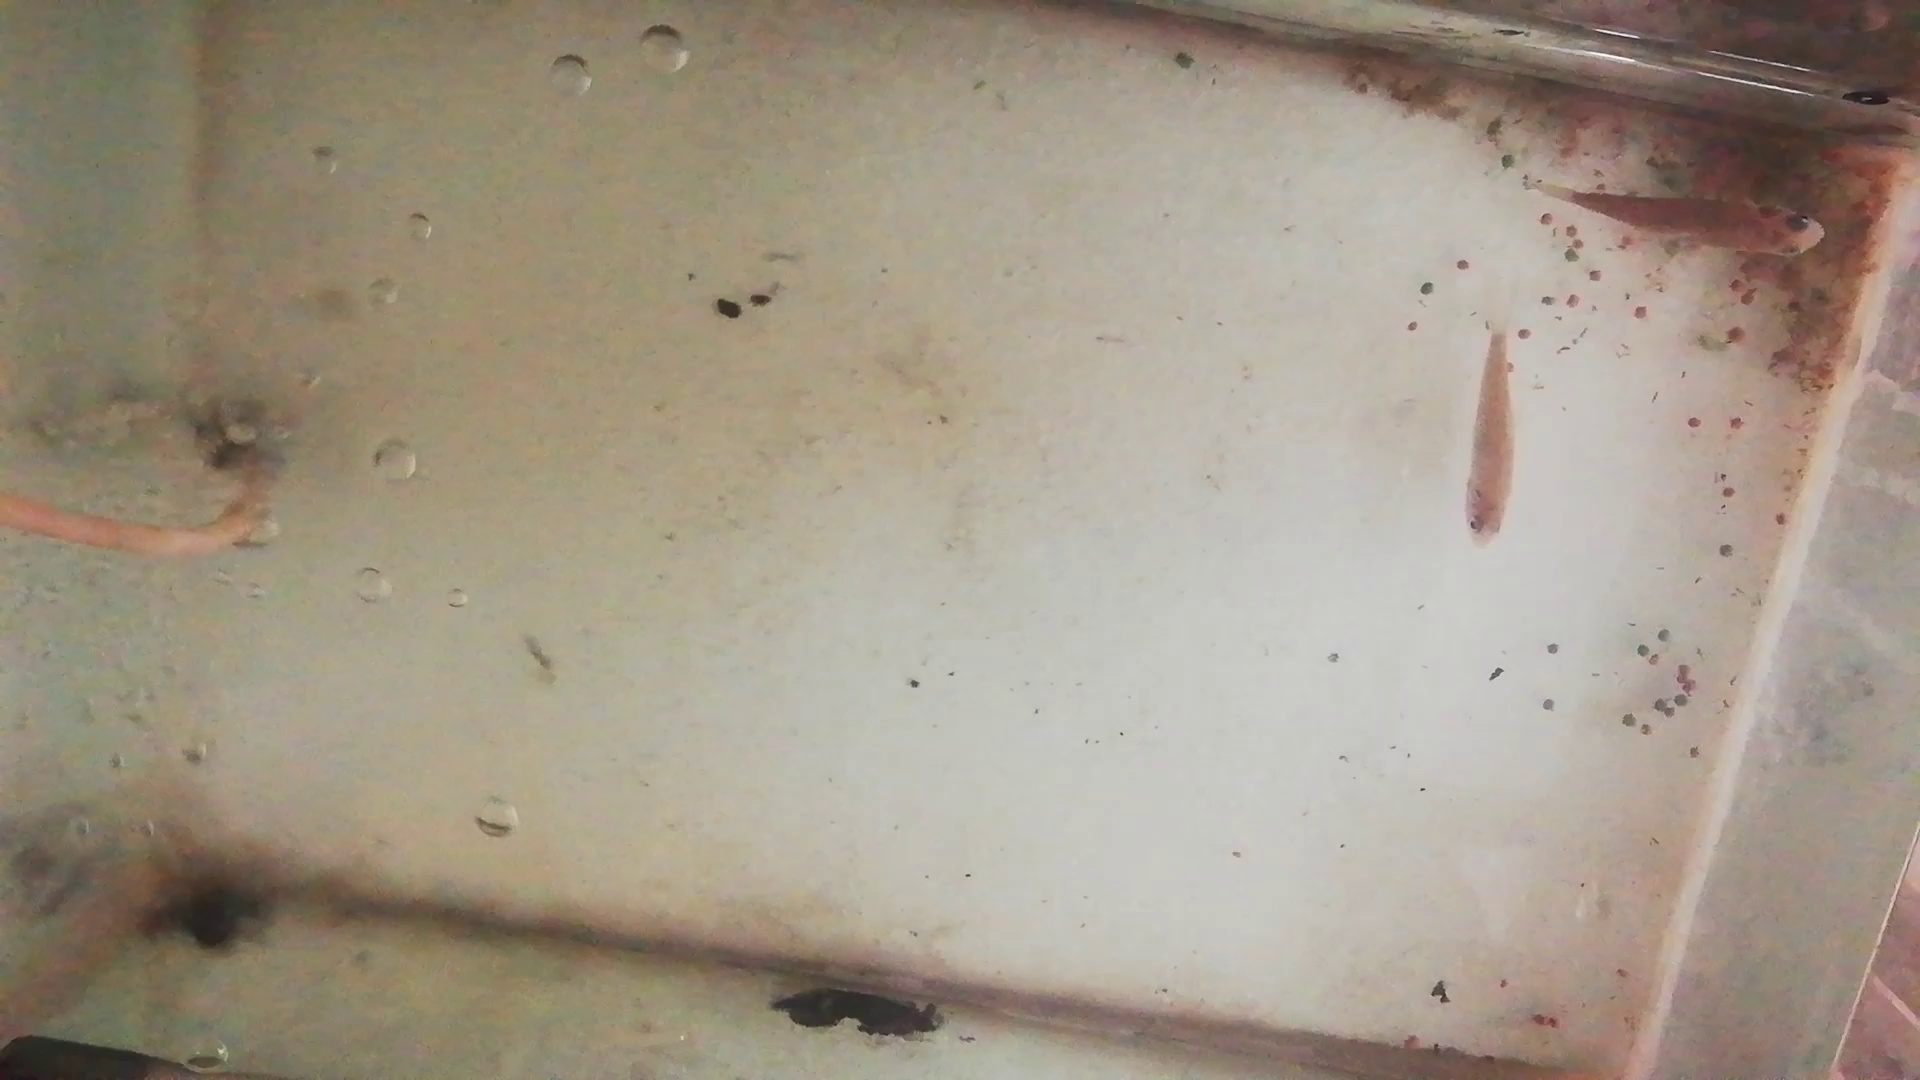fish: (1578, 189, 1825, 257), (1462, 334, 1515, 545)
